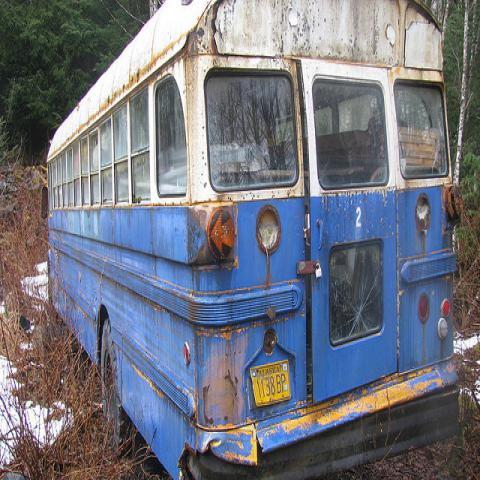bus: (40, 0, 463, 474)
